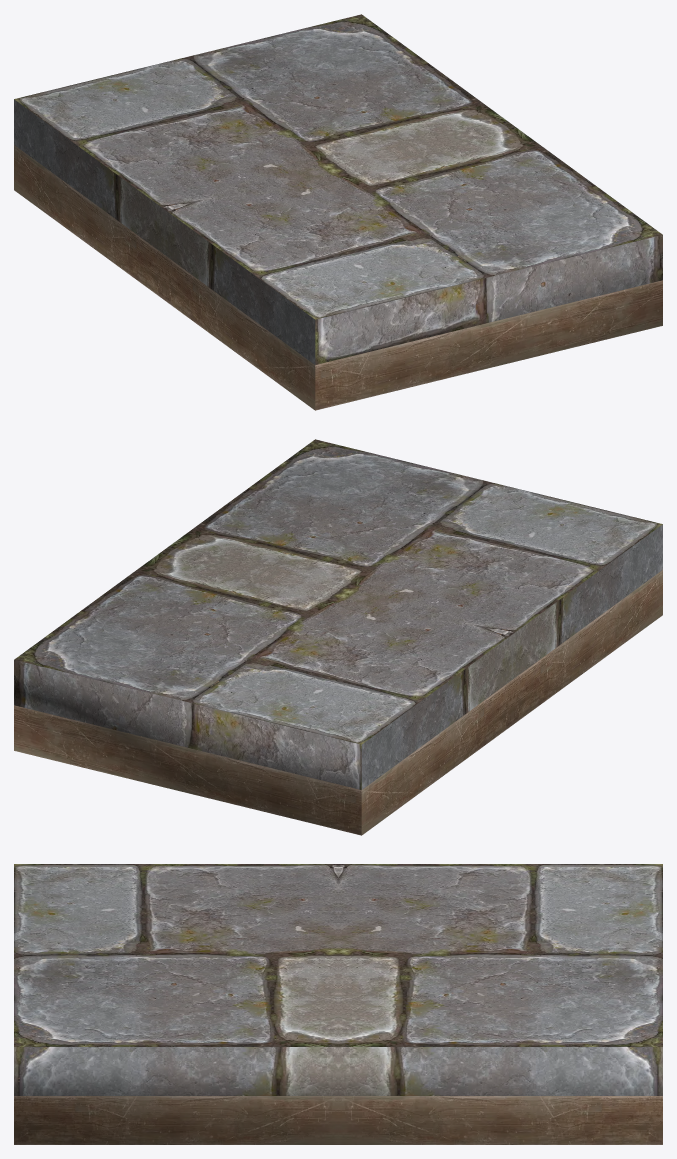
3 views of the same model, one above another, from view 1: azimuth 30°, elevation 25°; view 2: azimuth 150°, elevation 25°; view 3: azimuth 270°, elevation 25° (orthographic). The views are drawn at different scales.
Parts seen in each view (by area): view 1: SM_Greathall_Floor_3x2_01_LOD0; view 2: SM_Greathall_Floor_3x2_01_LOD0; view 3: SM_Greathall_Floor_3x2_01_LOD0.
Part boxes in pixels (box(x1,y1,x2,y2)): SM_Greathall_Floor_3x2_01_LOD0: box(14, 14, 662, 410); SM_Greathall_Floor_3x2_01_LOD0: box(14, 439, 662, 835); SM_Greathall_Floor_3x2_01_LOD0: box(14, 864, 662, 1144).
Size of the model in its own units: 2 by 0.5 by 3.
2 materials, 2 textured.
